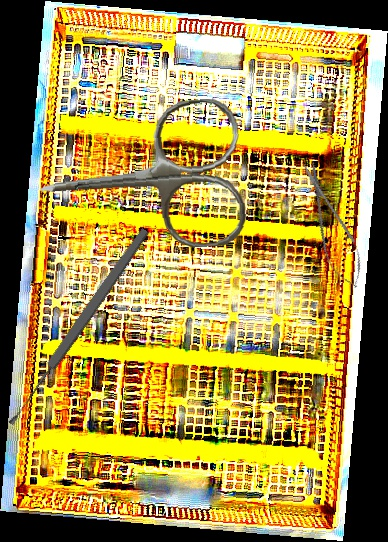Iris Scissors: (31, 96, 250, 261)
Micro Scissor: (291, 155, 372, 294)
Surgical Spoon: (4, 226, 152, 428)
